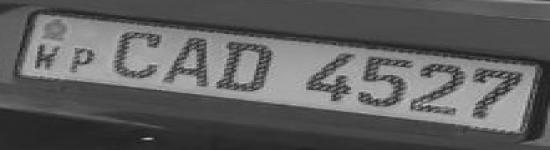4: (301, 50, 356, 102)
5: (410, 62, 468, 117), (356, 52, 411, 109)
7: (468, 66, 525, 120)
A: (162, 33, 213, 87)
C: (110, 28, 164, 80)
D: (212, 42, 276, 94)
P: (65, 44, 101, 77)
W: (30, 42, 63, 69)
